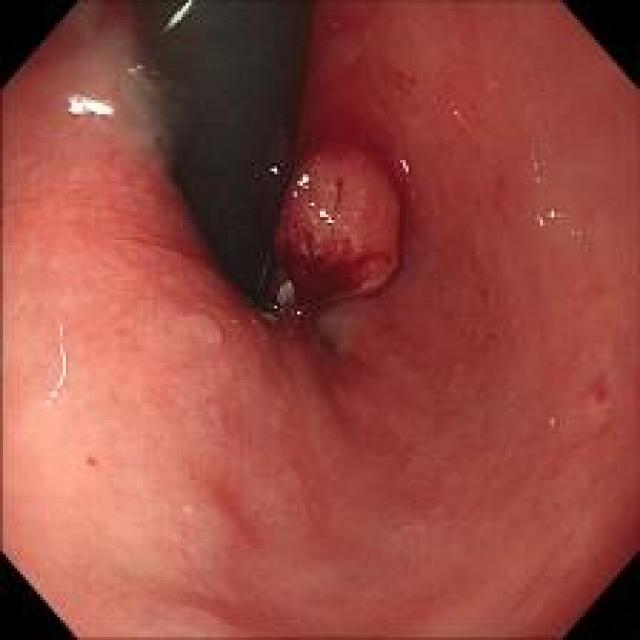blood: (264, 220, 372, 339)
contrast: (136, 1, 328, 320)
specularity: (38, 320, 71, 406), (55, 91, 119, 121), (156, 0, 202, 39), (521, 139, 546, 191), (260, 298, 308, 324), (530, 204, 558, 231), (288, 166, 310, 199), (310, 205, 336, 228), (265, 164, 282, 192), (398, 154, 411, 176), (451, 108, 466, 126)
